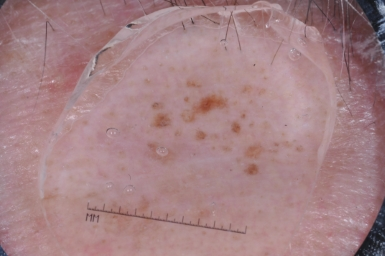nevus: (150, 78, 272, 181)
